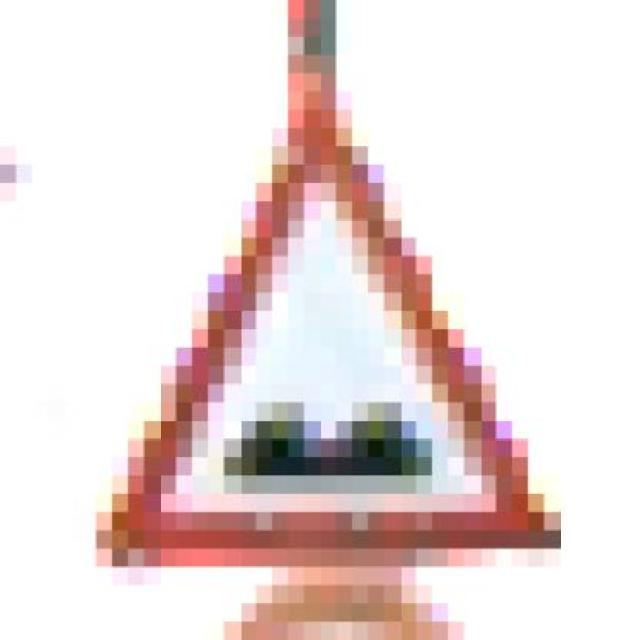Uneven Road: (79, 110, 576, 567)
